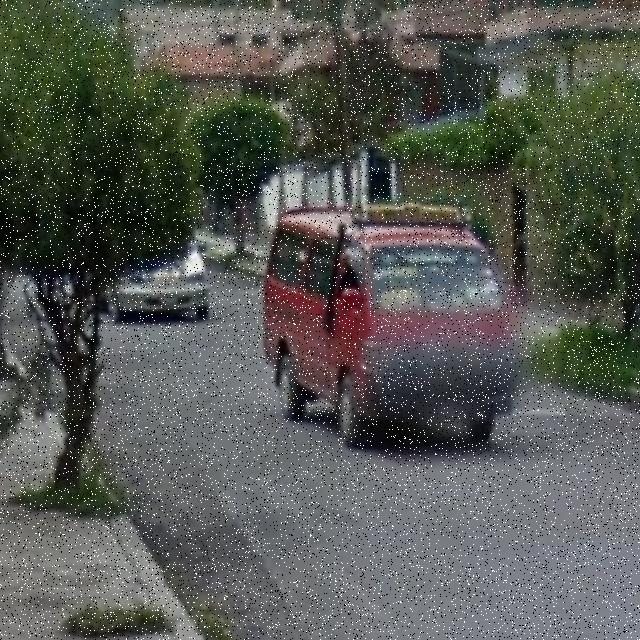cars: (270, 219, 509, 446)
